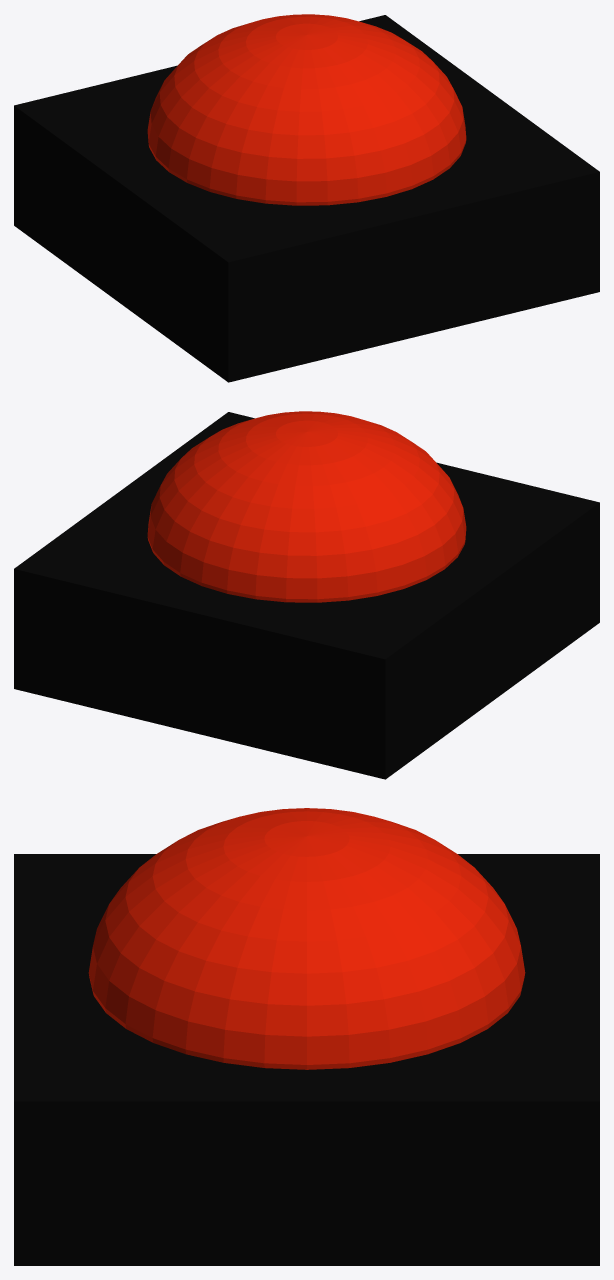
File: goal_switch.fbx
3 views of the same model, one above another, from view 1: azimuth 30°, elevation 25°; view 2: azimuth 150°, elevation 25°; view 3: azimuth 270°, elevation 25° (orthographic). The views are drawn at different scales.
Visible parts, largest first — view 1: Cube, Sphere; view 2: Cube, Sphere; view 3: Cube, Sphere.
Part boxes in pixels (left/top/right/bottom): Cube: left=14, top=15, right=599, bottom=382; Sphere: left=147, top=14, right=466, bottom=205; Cube: left=14, top=412, right=599, bottom=779; Sphere: left=147, top=411, right=466, bottom=602; Cube: left=14, top=854, right=599, bottom=1265; Sphere: left=88, top=808, right=525, bottom=1069.
Bounding box in the file's own units: 200 × 115 × 200.
